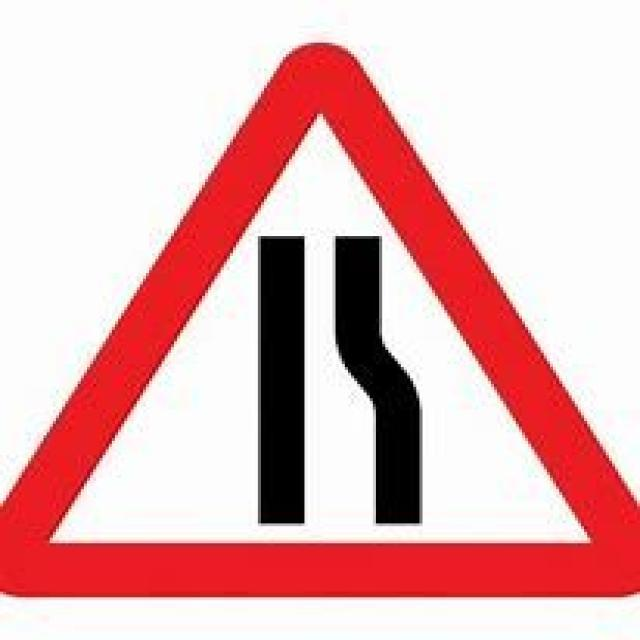narrow road ahead: (19, 38, 625, 595)
